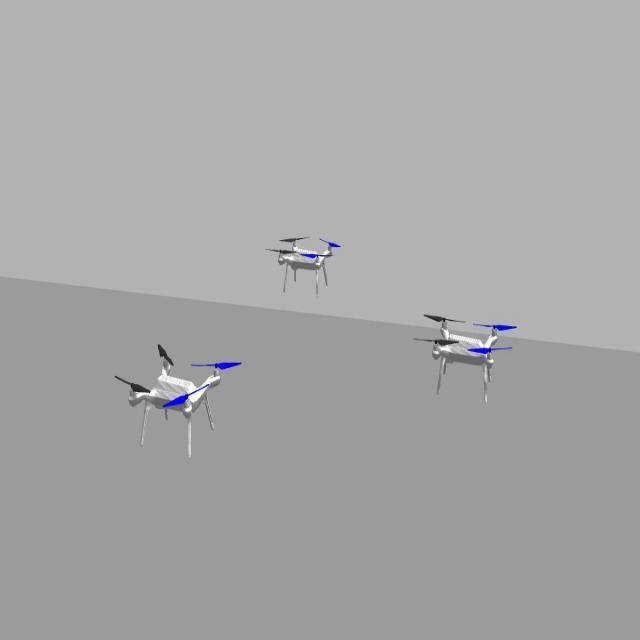Drone: (266, 227, 346, 297)
